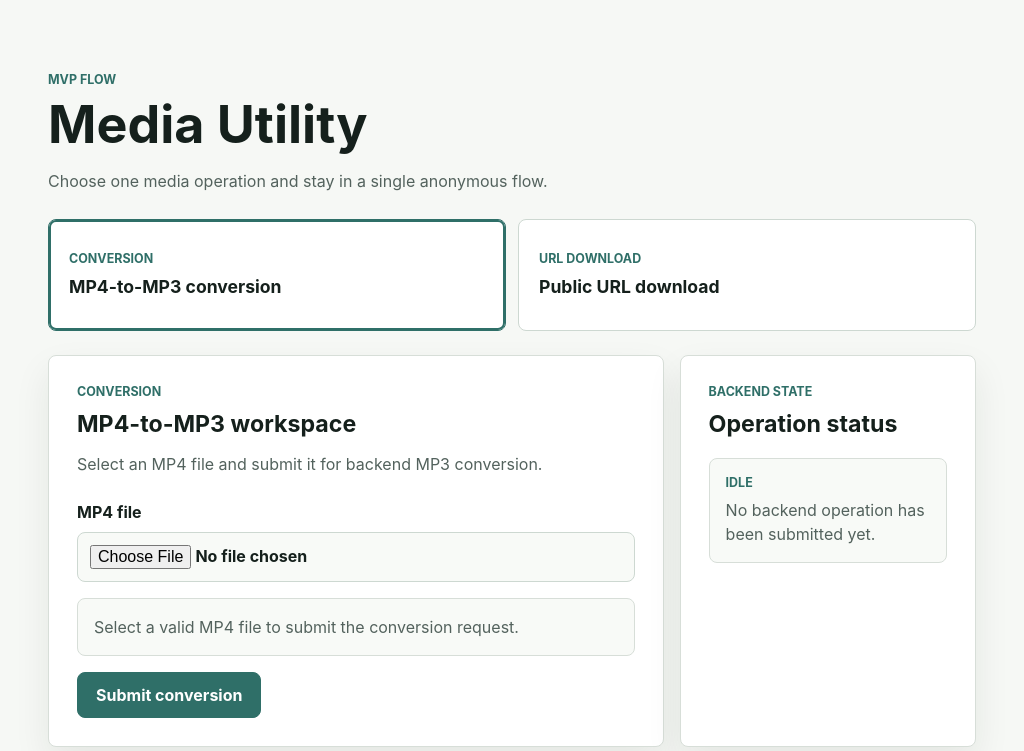
App › lets users switch to URL download and back without navigation
Click the button "URL download Public URL download" at (590, 259), box x1=518 y1=219 x2=976 y2=331
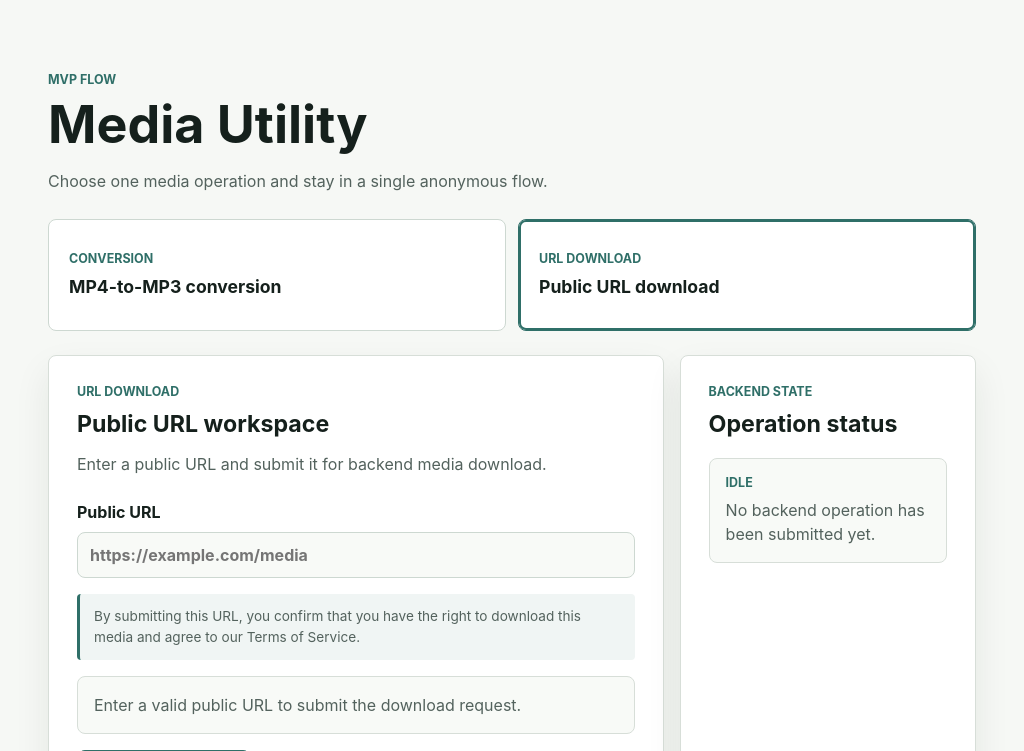
Check: the heading "Public URL workspace" is shown, box x1=77 y1=410 x2=329 y2=438
Click the button "Conversion MP4-to-MP3 conversion" at (277, 275), box x1=48 y1=219 x2=506 y2=331
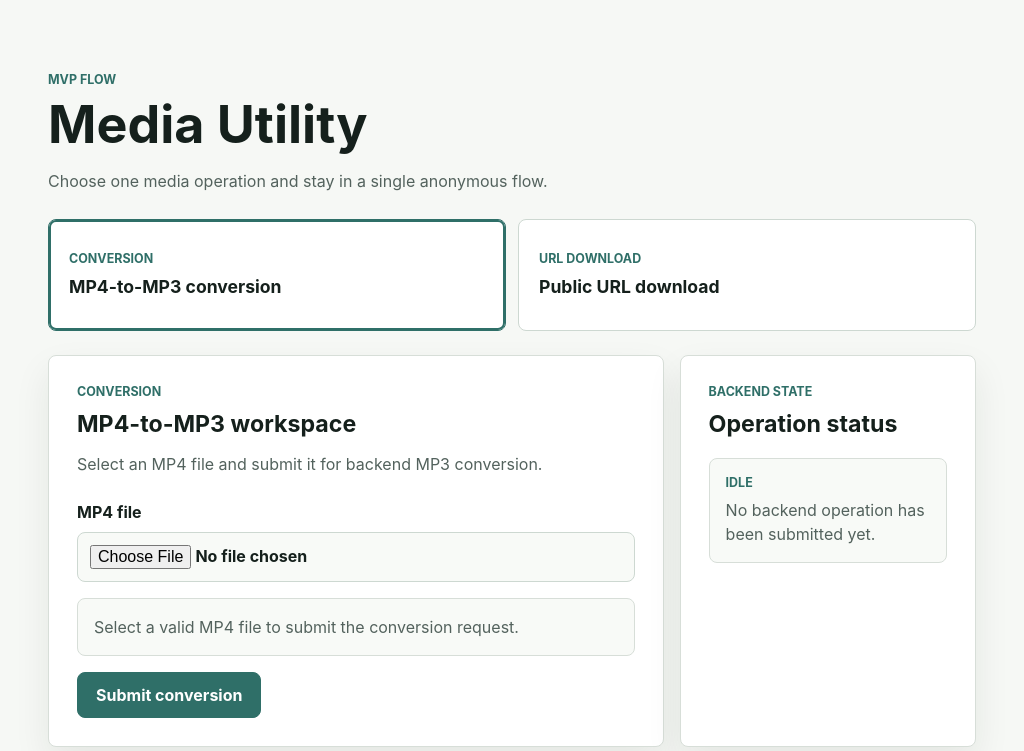
Check: the heading "MP4-to-MP3 workspace" is shown, box x1=77 y1=410 x2=356 y2=438
Check: the form named "mp4 upload form" is shown, box x1=77 y1=502 x2=635 y2=718
